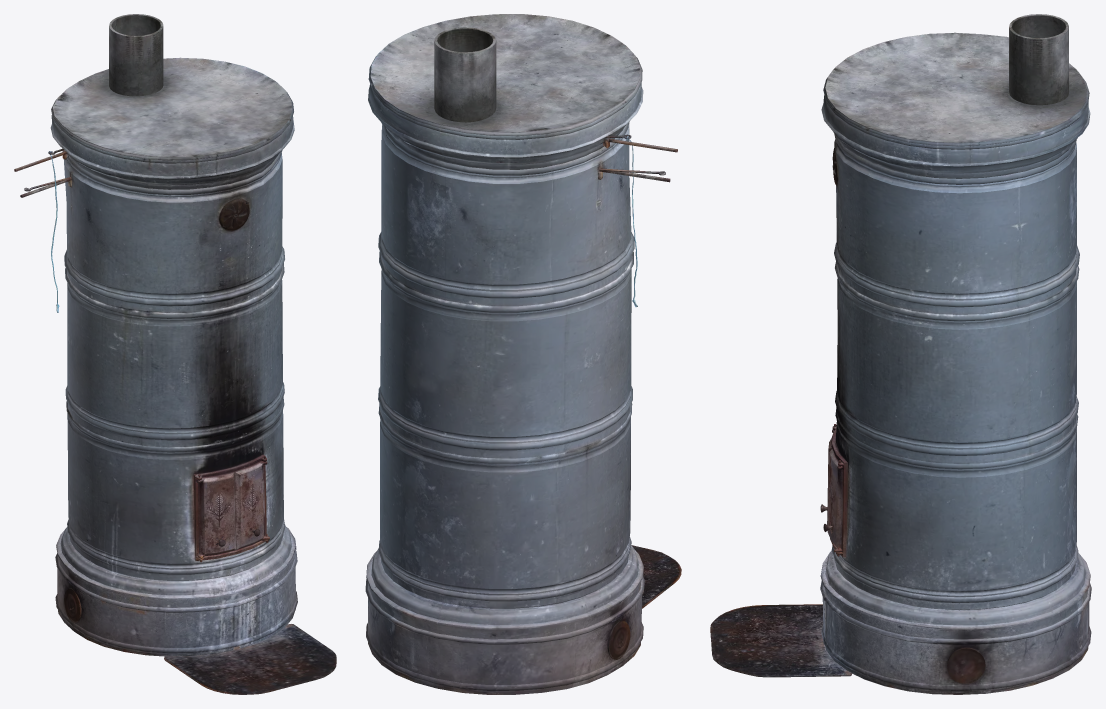
The model's file is scandinavian_masonry_heater.glb.
3 views of the same model, side by side, from view 1: azimuth 30°, elevation 25°; view 2: azimuth 150°, elevation 25°; view 3: azimuth 270°, elevation 25° (orthographic). The views are drawn at different scales.
Visible parts, largest first — view 1: scandinavian_masonry_heater; view 2: scandinavian_masonry_heater; view 3: scandinavian_masonry_heater.
Part boxes in pixels (x1,y1,x2,y2): scandinavian_masonry_heater: (14,14,336,694); scandinavian_masonry_heater: (365,14,681,694); scandinavian_masonry_heater: (710,14,1091,694).
Size of the model in its own units: 1.17 by 2.36 by 1.34.
1 material, 1 textured.
